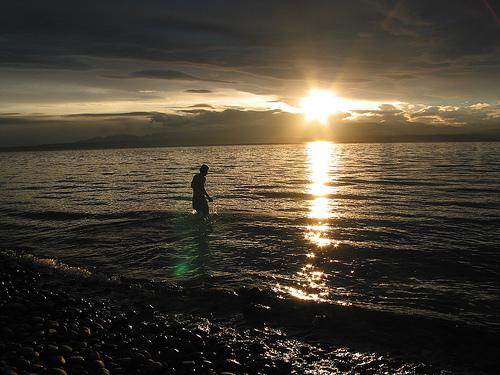human: (188, 164, 211, 218)
